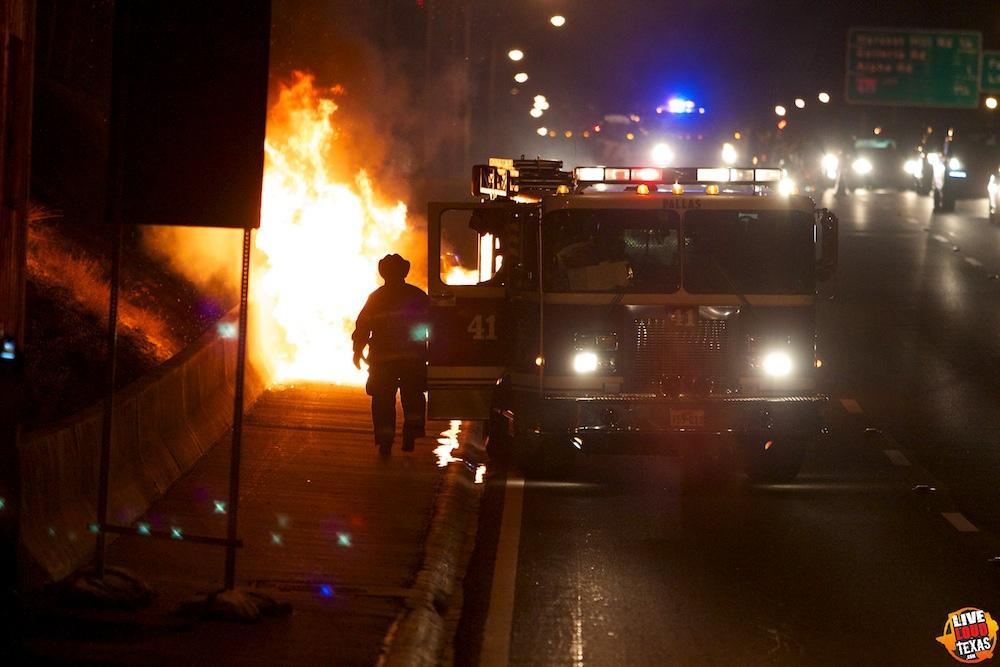fire: (263, 163, 375, 377)
